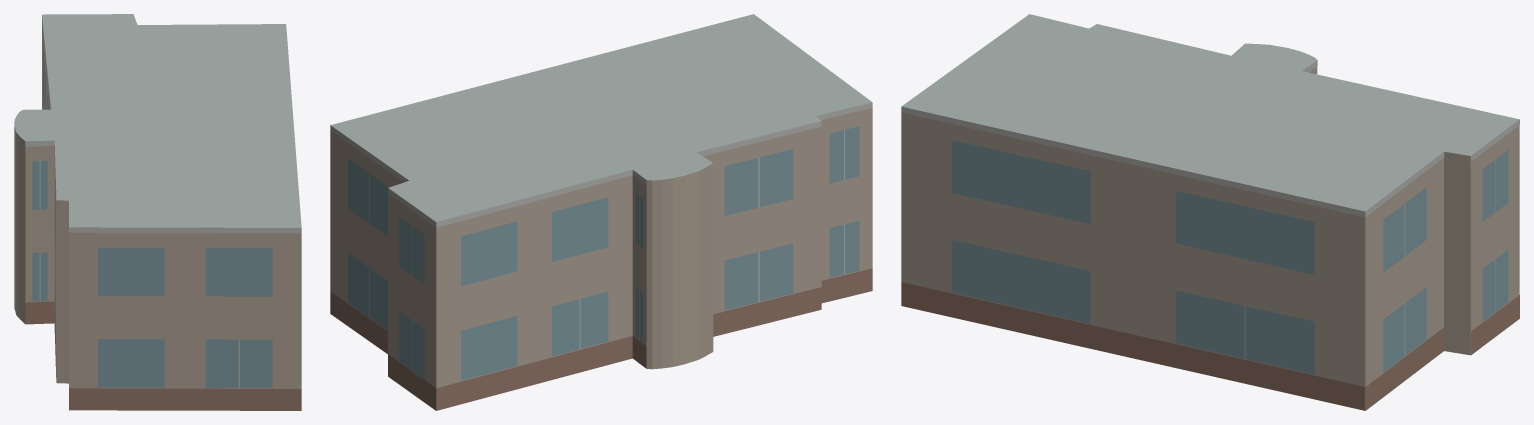
Rendered from survey-upis-32471222.glb.
3 renders of one model, left to right at view 1: azimuth 30°, elevation 25°; view 2: azimuth 150°, elevation 25°; view 3: azimuth 270°, elevation 25°, orthographic. The views are drawn at different scales.
Parts seen in each view (by area): view 1: survey-upis-32471222.tmp; view 2: survey-upis-32471222.tmp; view 3: survey-upis-32471222.tmp.
Part boxes in pixels (<box>): survey-upis-32471222.tmp: <box>14,14,301,410</box>; survey-upis-32471222.tmp: <box>330,14,872,410</box>; survey-upis-32471222.tmp: <box>901,14,1519,410</box>.
Bounding box in the file's own units: 17.65 × 8.3 × 23.35.
